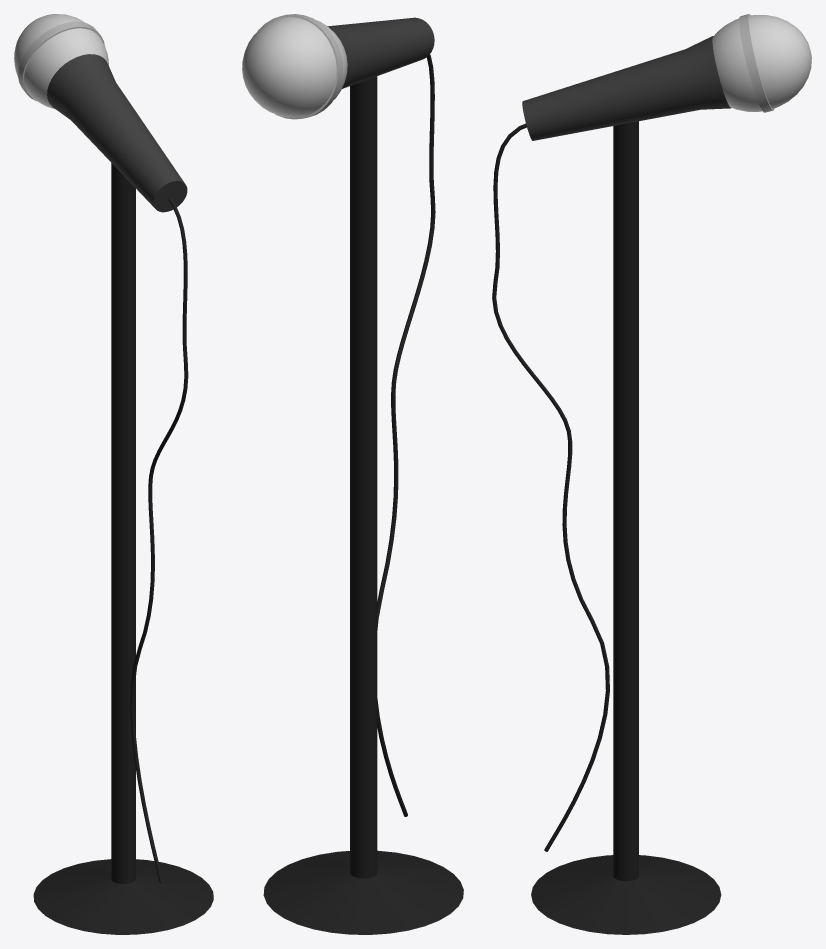
File: microphone.fbx
3 views of the same model, side by side, from view 1: azimuth 30°, elevation 25°; view 2: azimuth 150°, elevation 25°; view 3: azimuth 270°, elevation 25° (orthographic). The views are drawn at different scales.
Visible parts, largest first — view 1: Sphere; view 2: Sphere; view 3: Sphere.
Part boxes in pixels (x1,y1,x2,y2): Sphere: (14,14,213,934); Sphere: (242,14,463,934); Sphere: (492,14,811,934).
Size of the model in its own units: 182 by 923 by 305.
Materials: 1 (1 with a texture image).
